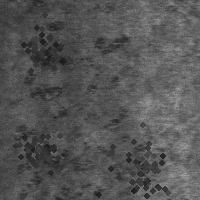rolled-in_scale: (14, 66, 121, 199), (17, 18, 145, 101), (95, 121, 183, 200), (114, 104, 192, 189), (8, 17, 70, 79), (7, 119, 63, 175)
